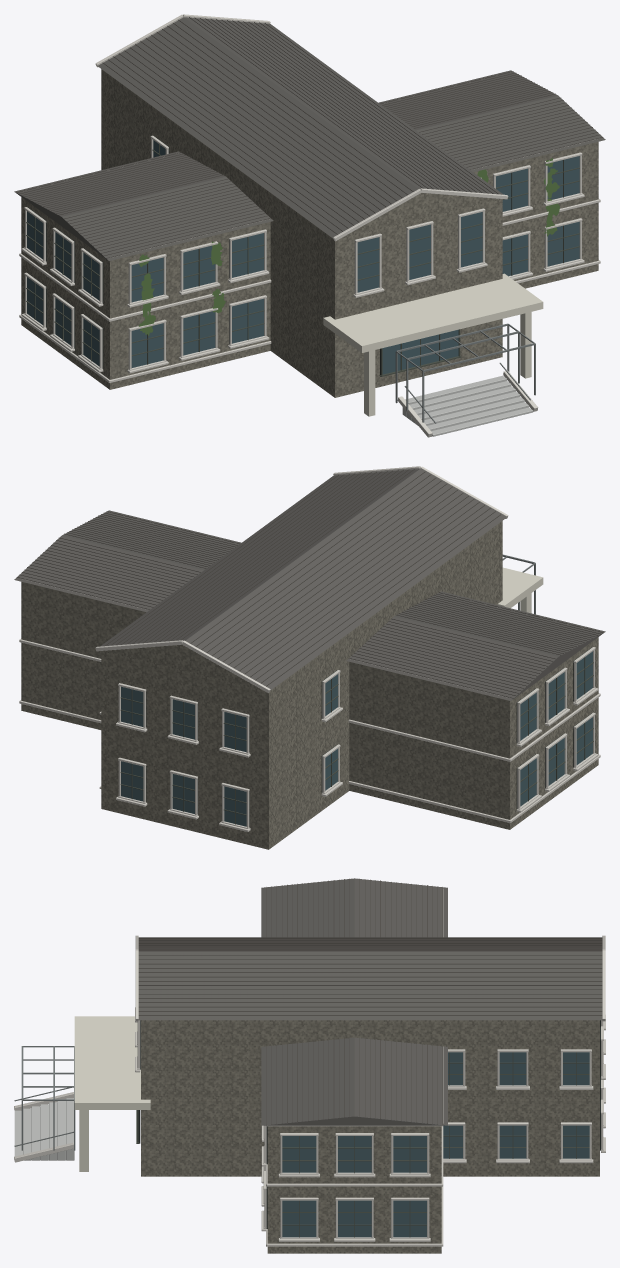
3 views of the same model, one above another, from view 1: azimuth 30°, elevation 25°; view 2: azimuth 150°, elevation 25°; view 3: azimuth 270°, elevation 25° (orthographic).
Visible parts, largest first — view 1: central-shallow-pediment-slopes__roof, central-tall-volume-estimated-depth__stone, estimated-side-low-pitch-roofs__roof, low-side-wings__stone, estimated-side-low-pitch-roofs-tile-courses__roofline, side-front-windows__glass, central-shallow-pediment-roof-courses__roofline, central-entry-canopy__cream, side-front-windows__trim, entry-steps__concrete, estimated-end-windows__glass, center-tall-front-windows__glass (+13 smaller); view 2: central-shallow-pediment-slopes__roof, central-tall-volume-estimated-depth__stone, low-side-wings__stone, estimated-side-low-pitch-roofs__roof, estimated-side-low-pitch-roofs-tile-courses__roofline, central-shallow-pediment-roof-courses__roofline, estimated-back-windows__glass, estimated-end-windows__glass, estimated-back-windows__trim, estimated-end-windows__trim, wing-stone-belts__trim, central-shallow-pediment-gable__stone (+6 smaller); view 3: central-tall-volume-estimated-depth__stone, central-shallow-pediment-slopes__roof, estimated-side-low-pitch-roofs__roof, central-shallow-pediment-roof-courses__roofline, low-side-wings__stone, estimated-end-windows__glass, central-entry-canopy__cream, estimated-central-side-windows__glass, estimated-side-low-pitch-roofs-tile-courses__roofline, estimated-end-windows__trim, entry-steps__concrete, estimated-central-side-windows__trim (+9 smaller).
Boxes of the visible parts, box(x1,y1,x2,y2) form: central-shallow-pediment-slopes__roof: box(97, 17, 503, 238); central-tall-volume-estimated-depth__stone: box(101, 69, 502, 397); estimated-side-low-pitch-roofs__roof: box(14, 70, 605, 260); low-side-wings__stone: box(21, 142, 598, 389); estimated-side-low-pitch-roofs-tile-courses__roofline: box(16, 71, 602, 258); side-front-windows__glass: box(131, 156, 579, 367); central-shallow-pediment-roof-courses__roofline: box(102, 17, 498, 234); central-entry-canopy__cream: box(323, 273, 543, 352); side-front-windows__trim: box(127, 152, 584, 373); entry-steps__concrete: box(402, 375, 533, 436); estimated-end-windows__glass: box(27, 211, 99, 366); center-tall-front-windows__glass: box(357, 212, 482, 292); central-shallow-pediment-slopes__roof: box(100, 469, 506, 690); central-tall-volume-estimated-depth__stone: box(101, 521, 502, 849); low-side-wings__stone: box(21, 582, 598, 829); estimated-side-low-pitch-roofs__roof: box(14, 510, 605, 700); estimated-side-low-pitch-roofs-tile-courses__roofline: box(17, 511, 603, 698); central-shallow-pediment-roof-courses__roofline: box(104, 469, 500, 686); estimated-back-windows__glass: box(121, 686, 246, 826); estimated-end-windows__glass: box(520, 651, 592, 806); estimated-back-windows__trim: box(116, 683, 250, 831); estimated-end-windows__trim: box(516, 647, 598, 812); wing-stone-belts__trim: box(19, 579, 600, 823); central-shallow-pediment-gable__stone: box(104, 644, 259, 688); central-tall-volume-estimated-depth__stone: box(141, 1020, 599, 1176); central-shallow-pediment-slopes__roof: box(138, 937, 602, 1020); estimated-side-low-pitch-roofs__roof: box(261, 878, 447, 1125); central-shallow-pediment-roof-courses__roofline: box(138, 937, 602, 1015); low-side-wings__stone: box(267, 1126, 441, 1253); estimated-end-windows__glass: box(282, 1136, 426, 1237); central-entry-canopy__cream: box(74, 1016, 150, 1109); estimated-central-side-windows__glass: box(443, 1052, 589, 1158); estimated-side-low-pitch-roofs-tile-courses__roofline: box(266, 878, 442, 1124); estimated-end-windows__trim: box(278, 1133, 430, 1241); entry-steps__concrete: box(14, 1098, 74, 1160); estimated-central-side-windows__trim: box(443, 1049, 593, 1163).
Bounding box in the file's own units: 35.78 × 13.01 × 37.41.
11 materials, 1 textured.
